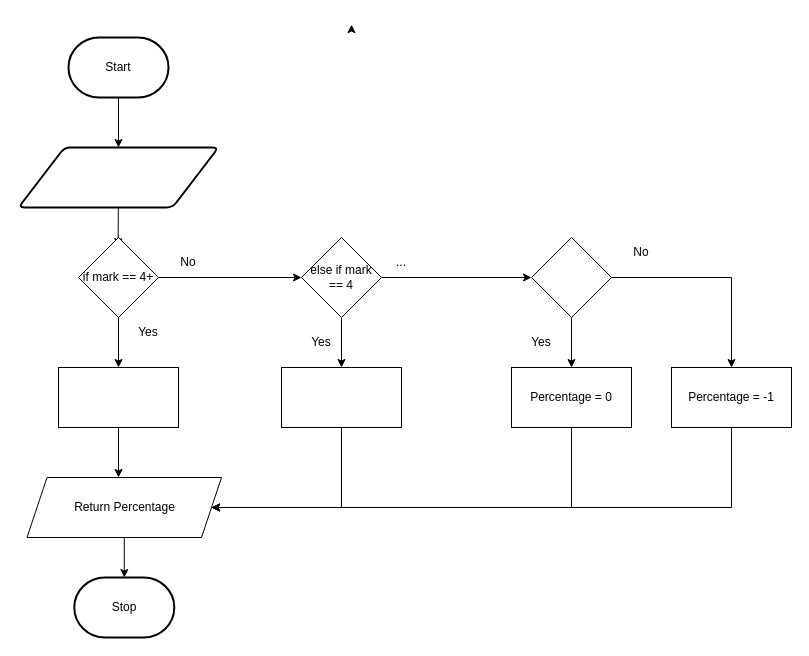
This 809x656 diagram has some shape labels left out. The shapes that lost their labels are listed below. From the top down, each one's box as (x1, y1, x2, y2) in pixels, then its label:
(17, 146, 219, 208): get mark
(530, 236, 612, 318): else if mark == NE
(58, 366, 178, 428): Percentage = 97
(280, 366, 402, 428): Percentage = 90
